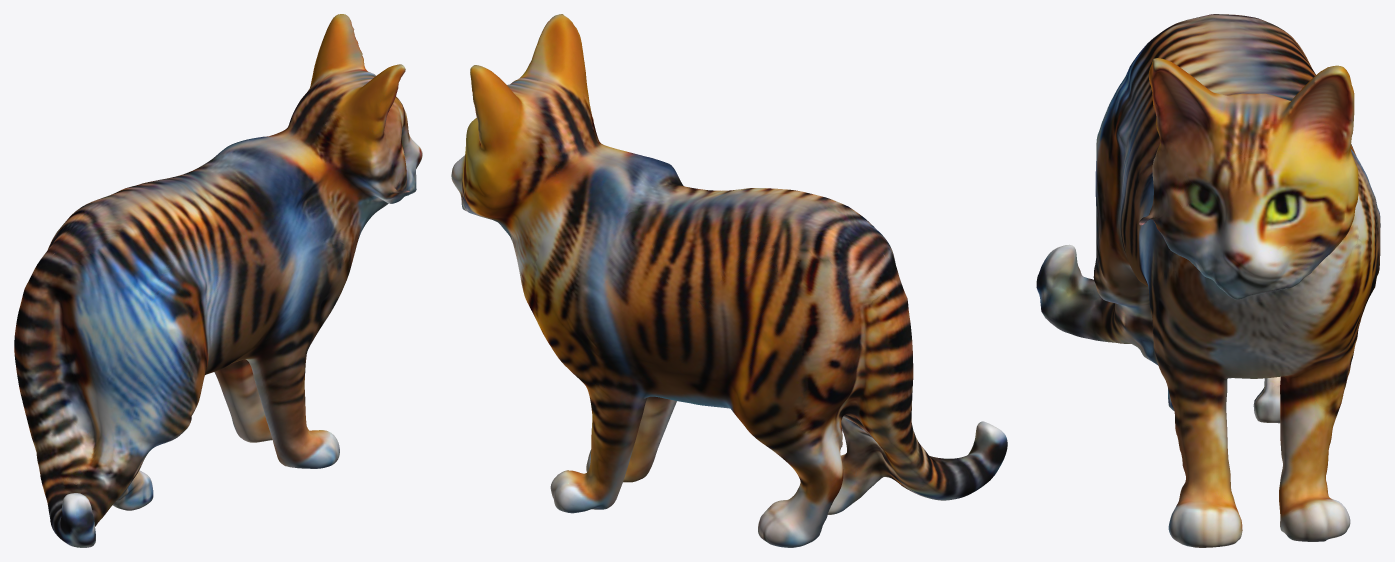
3 views of the same model, side by side, from view 1: azimuth 30°, elevation 25°; view 2: azimuth 150°, elevation 25°; view 3: azimuth 270°, elevation 25° (orthographic). The views are drawn at different scales.
Parts seen in each view (by area): view 1: tripo_node_d28cb5f0-b111-4dd8-948f-42341721f1b3; view 2: tripo_node_d28cb5f0-b111-4dd8-948f-42341721f1b3; view 3: tripo_node_d28cb5f0-b111-4dd8-948f-42341721f1b3.
Boxes of the visible parts, x1=… form: tripo_node_d28cb5f0-b111-4dd8-948f-42341721f1b3: x1=14, y1=14, x2=422, y2=547; tripo_node_d28cb5f0-b111-4dd8-948f-42341721f1b3: x1=451, y1=14, x2=1007, y2=547; tripo_node_d28cb5f0-b111-4dd8-948f-42341721f1b3: x1=1036, y1=14, x2=1380, y2=547.
Bounding box in the file's own units: 0.7676 × 0.6636 × 0.3966.
Materials: 1 (1 with a texture image).
